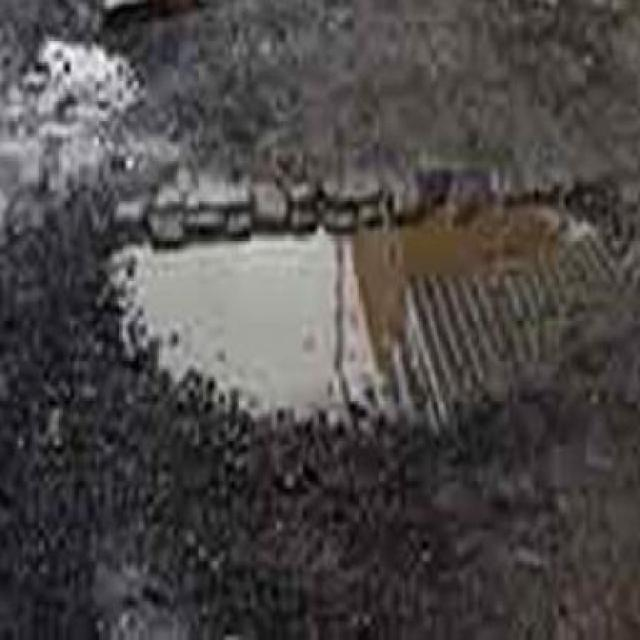pothole: (111, 158, 634, 442)
